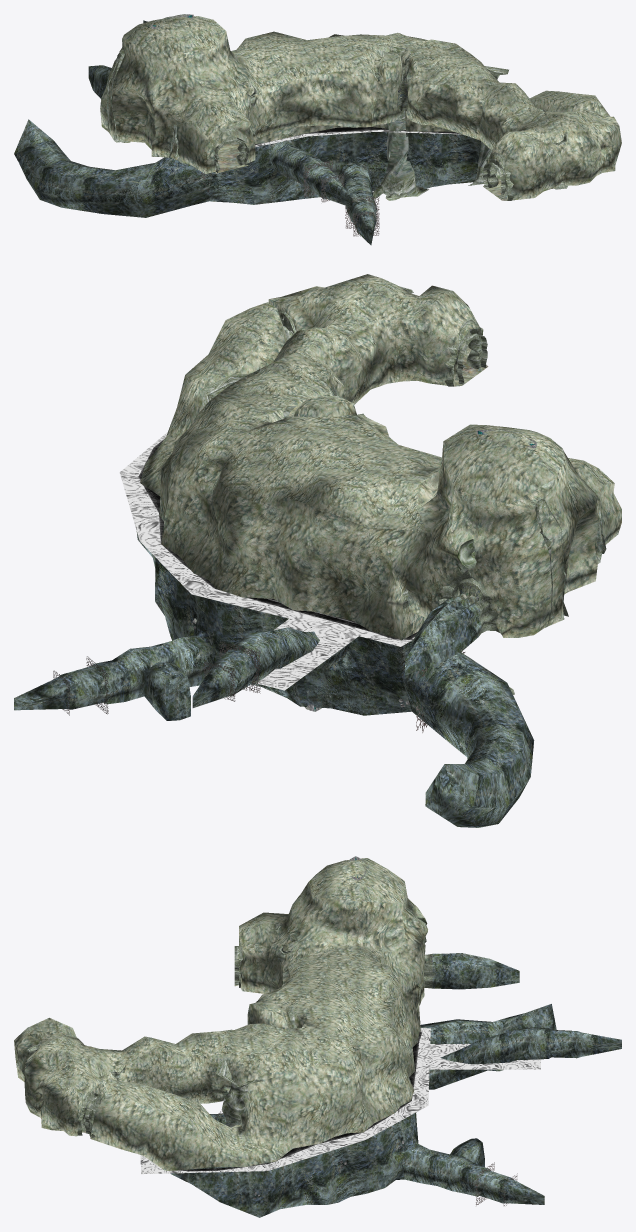
The picture shows the model from 3 angles, top to bottom: view 1: azimuth 30°, elevation 25°; view 2: azimuth 150°, elevation 25°; view 3: azimuth 270°, elevation 25°; orthographic projection. The views are drawn at different scales.
Visible parts, largest first — view 1: Shape 11, Shape 7, Shape 5, Shape 6, Shape 3, Shape 4, Shape 8, Shape 12, Shape 13; view 2: Shape 11, Shape 7, Shape 12, Shape 3, Shape 4, Shape 13, Shape 5; view 3: Shape 11, Shape 7, Shape 12, Shape 5, Shape 3, Shape 13.
Part boxes in pixels (<box>): Shape 11: <box>100,16,621,200</box>; Shape 7: <box>14,20,481,245</box>; Shape 5: <box>108,46,567,200</box>; Shape 6: <box>107,75,562,179</box>; Shape 3: <box>212,110,599,200</box>; Shape 4: <box>201,159,379,236</box>; Shape 8: <box>215,141,507,200</box>; Shape 12: <box>255,130,460,146</box>; Shape 13: <box>255,127,459,144</box>; Shape 11: <box>140,274,621,640</box>; Shape 7: <box>14,531,534,827</box>; Shape 12: <box>119,432,414,690</box>; Shape 3: <box>278,309,500,636</box>; Shape 4: <box>53,641,465,732</box>; Shape 13: <box>138,439,417,639</box>; Shape 5: <box>201,286,606,694</box>; Shape 11: <box>14,858,427,1170</box>; Shape 7: <box>170,953,621,1217</box>; Shape 12: <box>140,1028,541,1174</box>; Shape 5: <box>28,925,351,1122</box>; Shape 3: <box>77,938,435,1137</box>; Shape 13: <box>178,1031,421,1171</box>.
Size of the model in its own units: 5408 by 2896 by 6900.
